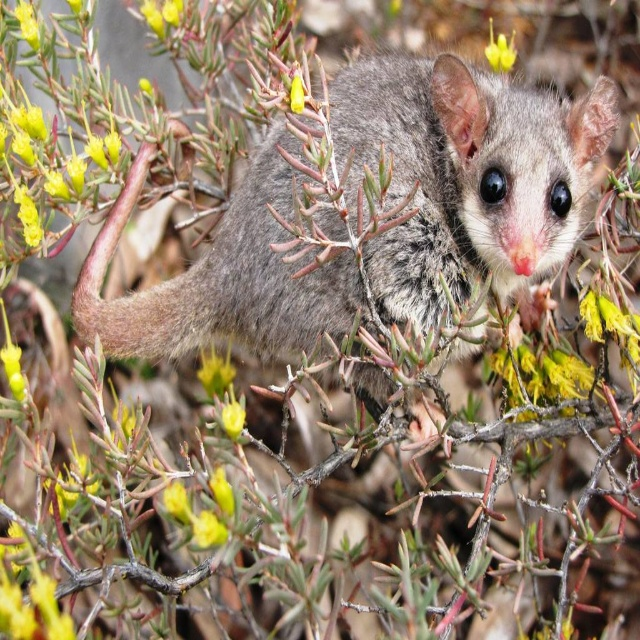Mouse: (70, 33, 621, 448)
